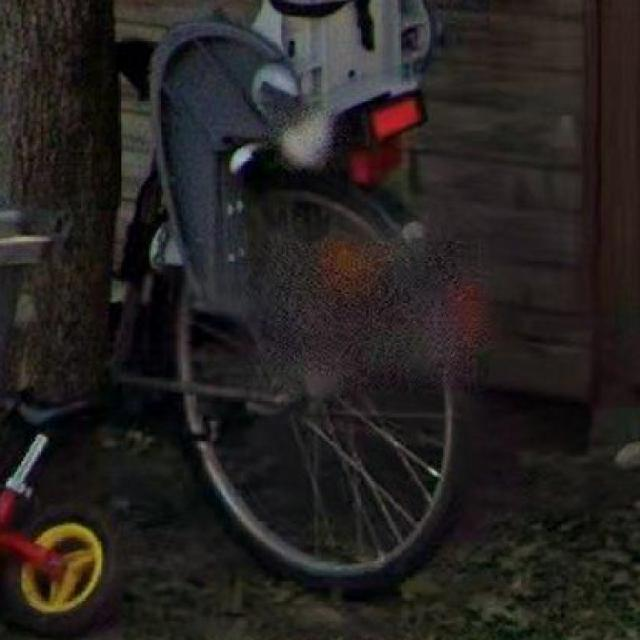bicycle: (155, 25, 480, 590)
